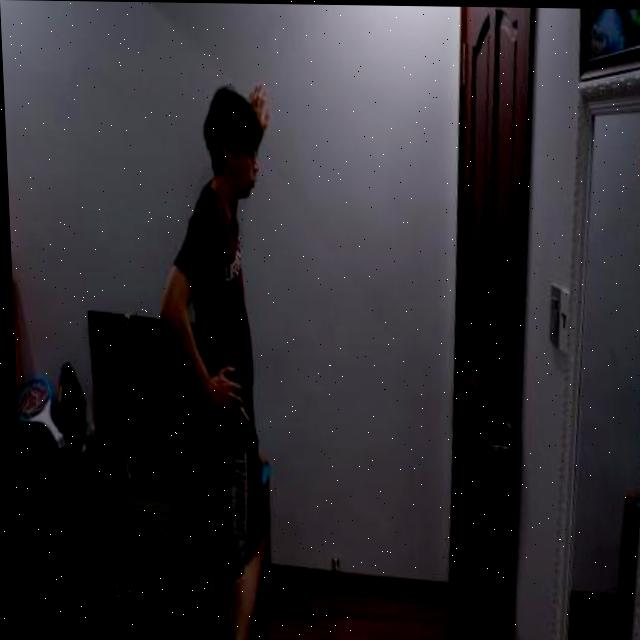cigarette: (236, 406, 245, 422)
